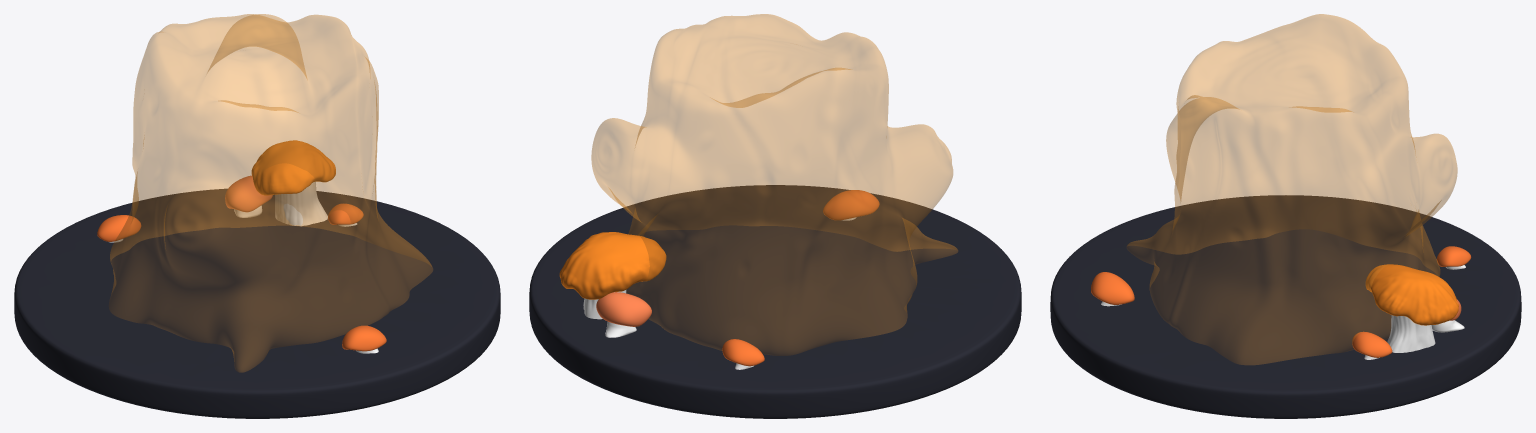
File: tree.glb
The picture shows the model from 3 angles, left to right: view 1: azimuth 30°, elevation 25°; view 2: azimuth 150°, elevation 25°; view 3: azimuth 270°, elevation 25°; orthographic projection. The views are drawn at different scales.
Parts seen in each view (by area): view 1: 柱体.002, 柱体, 立方体, 柱体.003, 立方体.002, 立方体.005, 立方体.003, 立方体.001; view 2: 柱体, 柱体.002, 立方体, 立方体.002, 立方体.005, 立方体.003; view 3: 柱体, 柱体.002, 立方体, 柱体.003, 立方体.005, 立方体.001, 立方体.003.
Boxes of the visible parts, left/top/right/bottom form: 柱体.002: left=14, top=188, right=500, bottom=418; 柱体: left=109, top=14, right=432, bottom=372; 立方体: left=251, top=140, right=335, bottom=195; 柱体.003: left=275, top=181, right=327, bottom=226; 立方体.002: left=225, top=175, right=272, bottom=212; 立方体.005: left=342, top=325, right=386, bottom=351; 立方体.003: left=97, top=215, right=141, bottom=241; 立方体.001: left=328, top=203, right=363, bottom=224; 柱体: left=591, top=14, right=957, bottom=355; 柱体.002: left=529, top=185, right=1021, bottom=418; 立方体: left=559, top=232, right=666, bottom=299; 立方体.002: left=596, top=292, right=651, bottom=326; 立方体.005: left=823, top=190, right=879, bottom=220; 立方体.003: left=722, top=339, right=764, bottom=366; 柱体: left=1127, top=14, right=1457, bottom=364; 柱体.002: left=1050, top=195, right=1521, bottom=418; 立方体: left=1365, top=264, right=1458, bottom=325; 柱体.003: left=1387, top=315, right=1435, bottom=352; 立方体.005: left=1091, top=272, right=1134, bottom=304; 立方体.001: left=1352, top=331, right=1392, bottom=357; 立方体.003: left=1436, top=246, right=1471, bottom=266.
Size of the model in its own units: 3.96 by 2.5 by 3.96.
